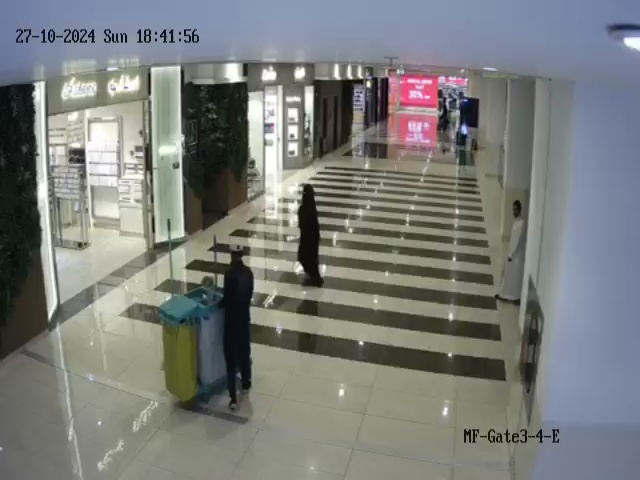female: (296, 183, 324, 288)
male: (216, 246, 255, 412), (495, 200, 526, 304)
